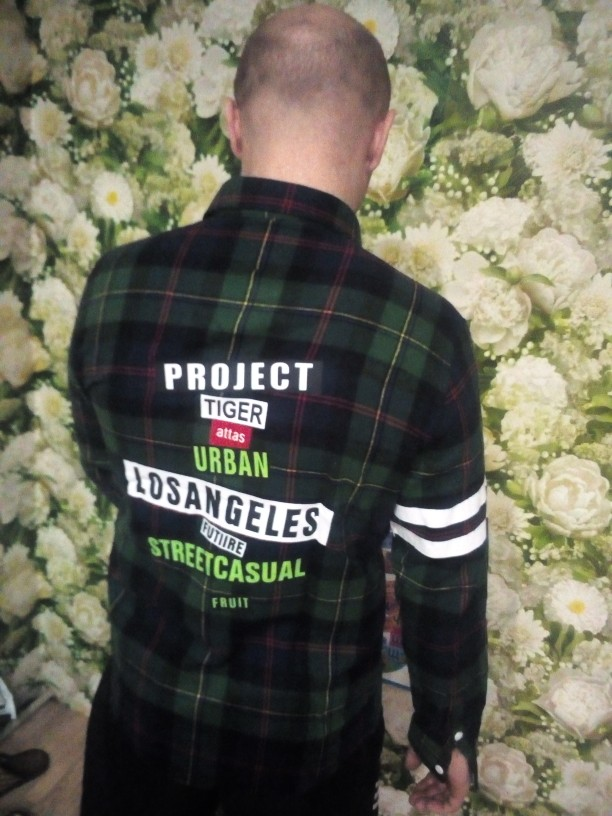shirts: (60, 185, 488, 772)
